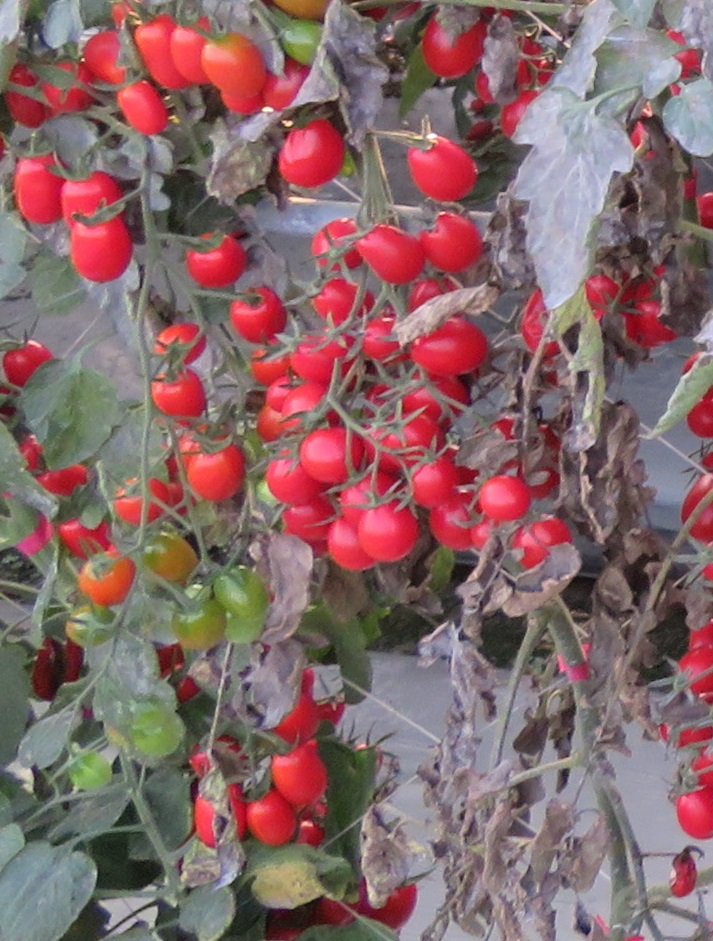green: (138, 529, 208, 582), (168, 595, 223, 651), (213, 565, 266, 619)
orange: (202, 32, 276, 100), (180, 447, 247, 503), (270, 747, 326, 808), (126, 16, 172, 89), (148, 375, 208, 429), (77, 553, 139, 604), (245, 797, 296, 847)
red: (277, 108, 343, 196), (61, 219, 141, 287), (406, 133, 486, 201), (401, 322, 494, 379), (320, 880, 418, 931), (420, 10, 487, 79), (352, 228, 427, 286), (293, 429, 367, 487), (418, 212, 486, 272), (13, 147, 62, 230), (354, 501, 416, 563), (226, 282, 285, 347), (190, 780, 245, 847), (180, 234, 246, 288), (510, 516, 575, 569), (476, 473, 538, 526), (62, 170, 126, 221), (624, 298, 683, 349), (430, 494, 477, 555), (42, 60, 94, 115), (315, 277, 371, 328), (113, 475, 170, 523), (119, 80, 169, 134), (5, 62, 44, 130), (2, 340, 55, 390), (678, 473, 713, 546), (277, 692, 323, 746), (151, 322, 211, 362), (84, 33, 130, 85), (286, 345, 334, 391), (678, 783, 713, 845), (677, 645, 713, 698), (328, 521, 359, 573), (672, 854, 699, 899), (685, 397, 713, 440), (297, 817, 325, 846)
